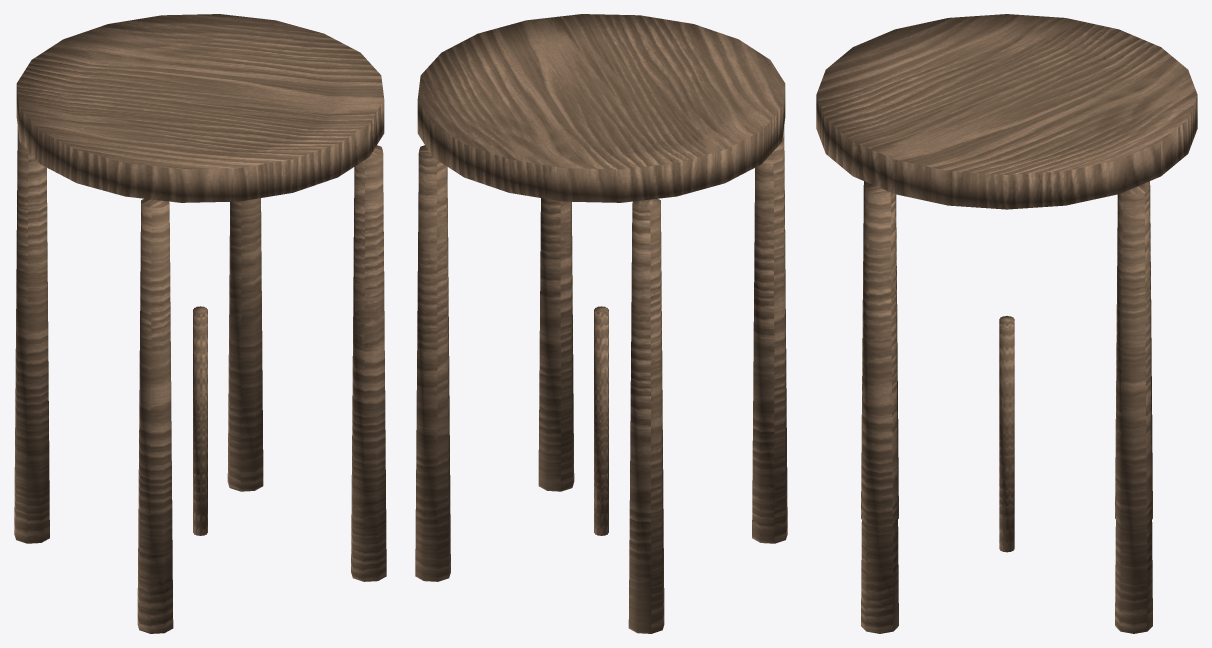
File: stool.glb
3 renders of one model, left to right at view 1: azimuth 30°, elevation 25°; view 2: azimuth 150°, elevation 25°; view 3: azimuth 270°, elevation 25°, orthographic. The views are drawn at different scales.
Visible parts, largest first — view 1: stool; view 2: stool; view 3: stool.
Part boxes in pixels (<box>): stool: <box>14,14,386,633</box>; stool: <box>415,14,787,633</box>; stool: <box>816,14,1197,633</box>.
Size of the model in its own units: 0.3 by 0.415 by 0.3.
1 material, 1 textured.
